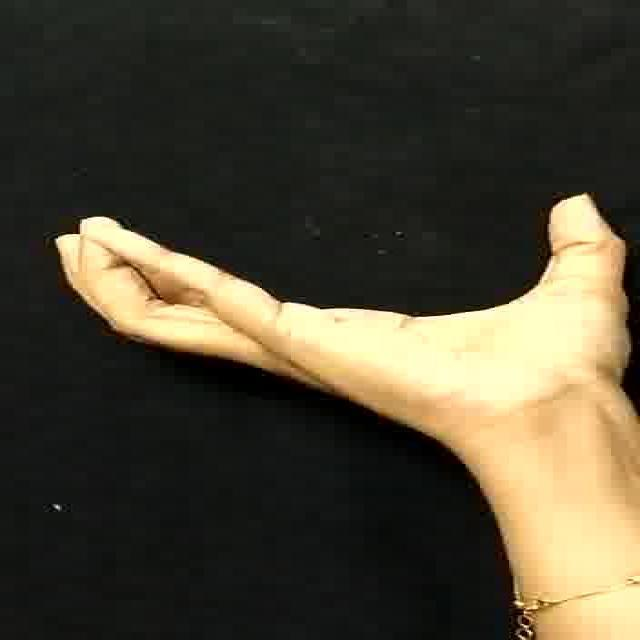padamkosh: (20, 170, 640, 462)
